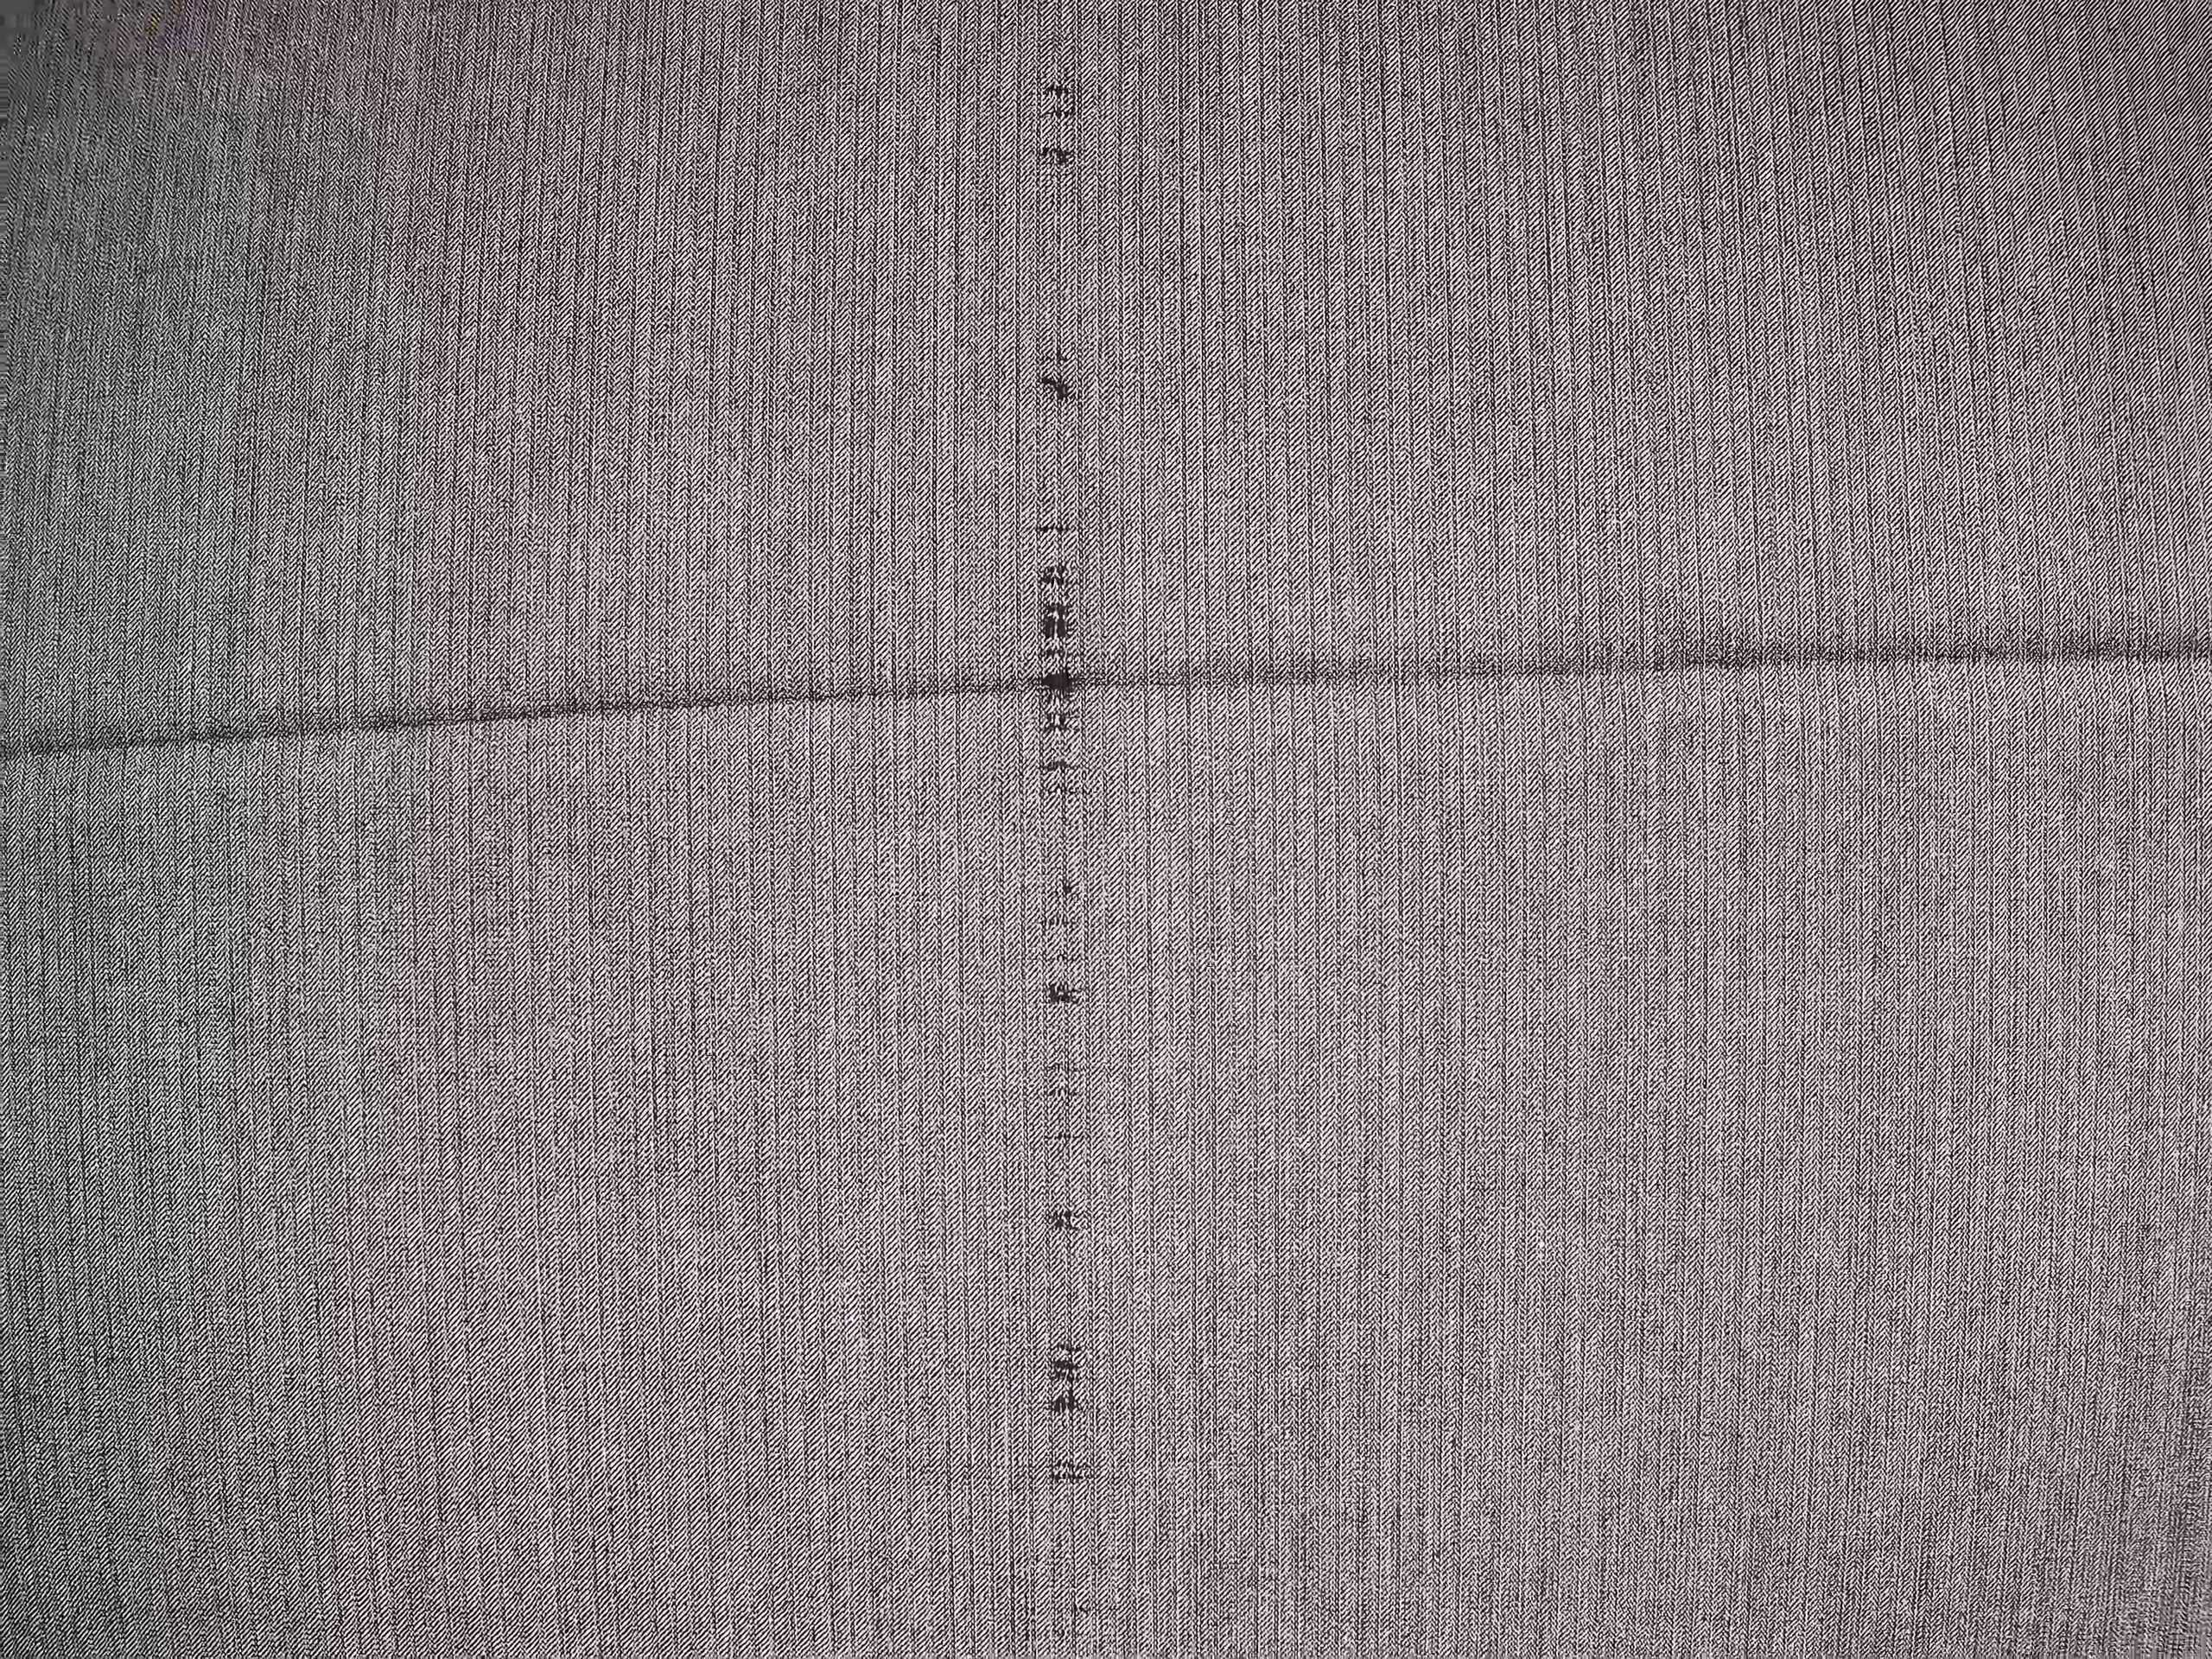jumps: (1005, 42, 1127, 1610)
